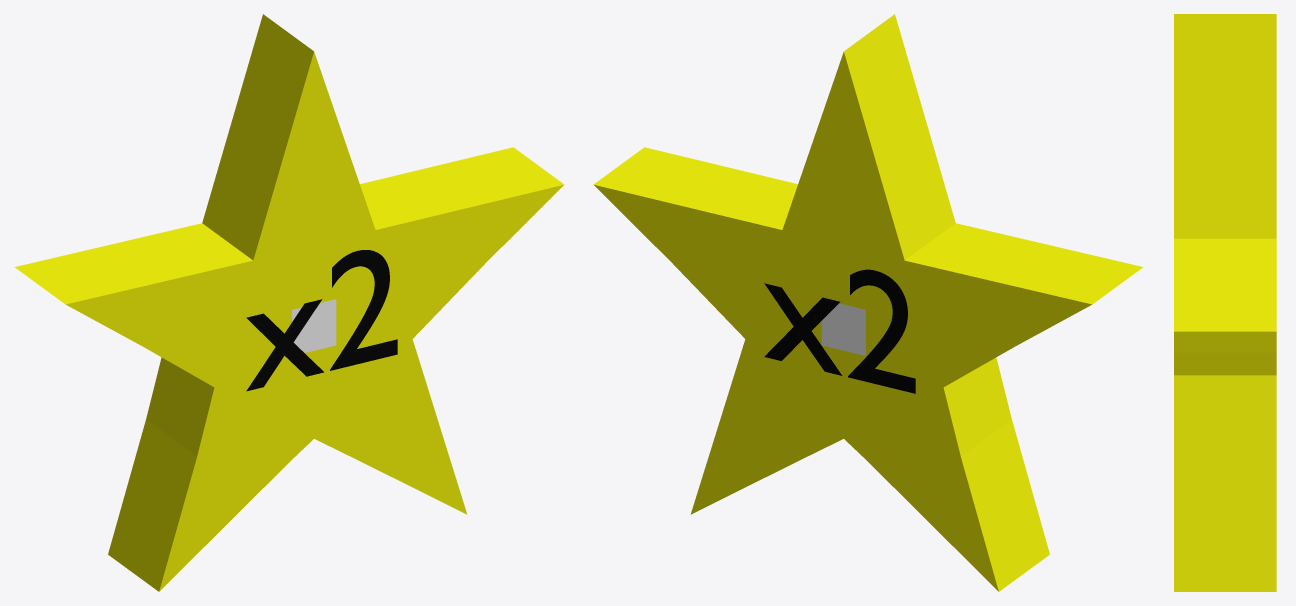
File: Star.fbx
The picture shows the model from 3 angles, left to right: view 1: azimuth 30°, elevation 25°; view 2: azimuth 150°, elevation 25°; view 3: azimuth 270°, elevation 25°; orthographic projection.
Visible parts, largest first — view 1: Cube, Text; view 2: Cube, Text.001; view 3: Cube.
Part boxes in pixels (box(x1,y1,x2,y2)): Cube: box(14, 14, 564, 591); Text: box(246, 250, 397, 391); Cube: box(593, 14, 1143, 591); Text.001: box(764, 269, 915, 393); Cube: box(1174, 14, 1276, 591).
Size of the model in its own units: 318 by 306 by 60.22.
